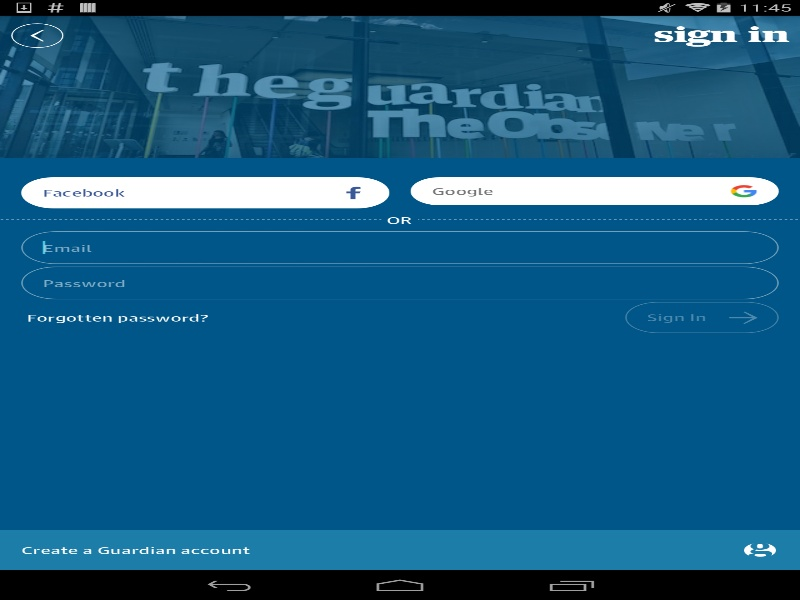Input: (21, 231, 778, 264), (21, 266, 778, 299)
